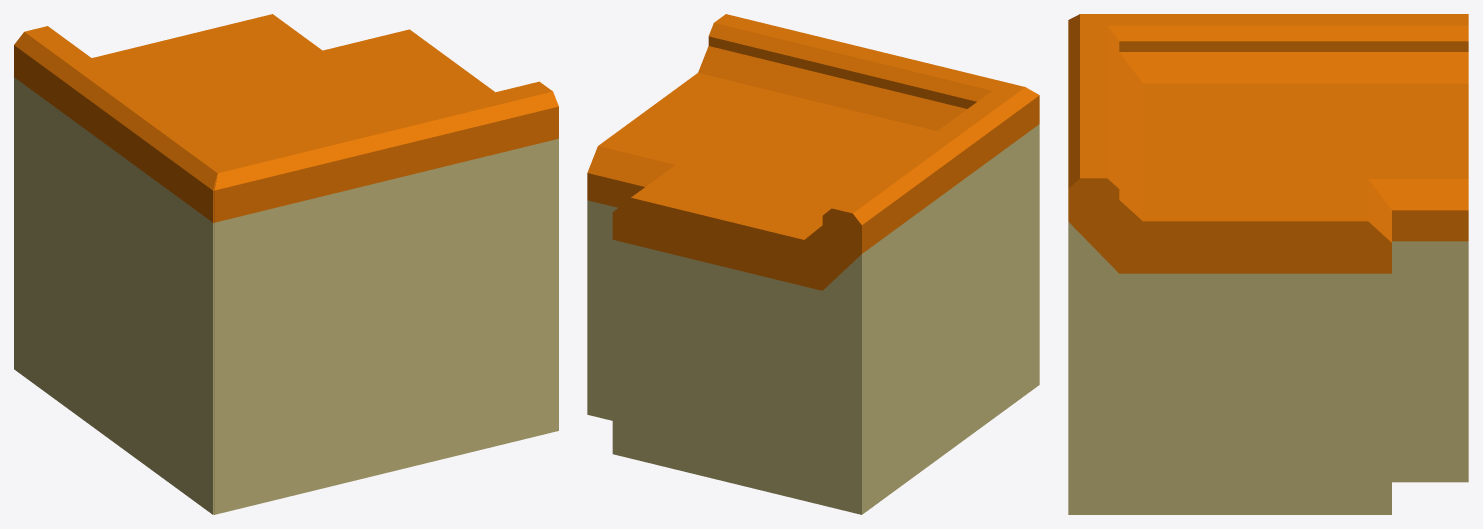
Rendered from counter_conner.fbx.
3 renders of one model, left to right at view 1: azimuth 30°, elevation 25°; view 2: azimuth 150°, elevation 25°; view 3: azimuth 270°, elevation 25°, orthographic. The views are drawn at different scales.
Parts seen in each view (by area): view 1: pCube5; view 2: pCube5; view 3: pCube5.
Part boxes in pixels (bbox=[...]): pCube5: bbox=[14, 14, 558, 514]; pCube5: bbox=[587, 14, 1039, 514]; pCube5: bbox=[1068, 14, 1468, 514].
Size of the model in its own units: 6.19 by 5.73 by 6.18.
